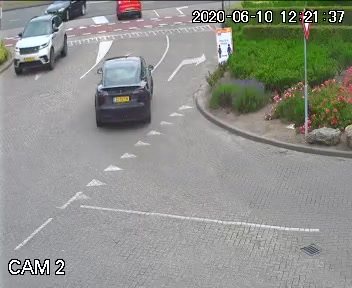car: (88, 49, 153, 137), (11, 18, 72, 79), (45, 0, 86, 24), (111, 0, 143, 22)
